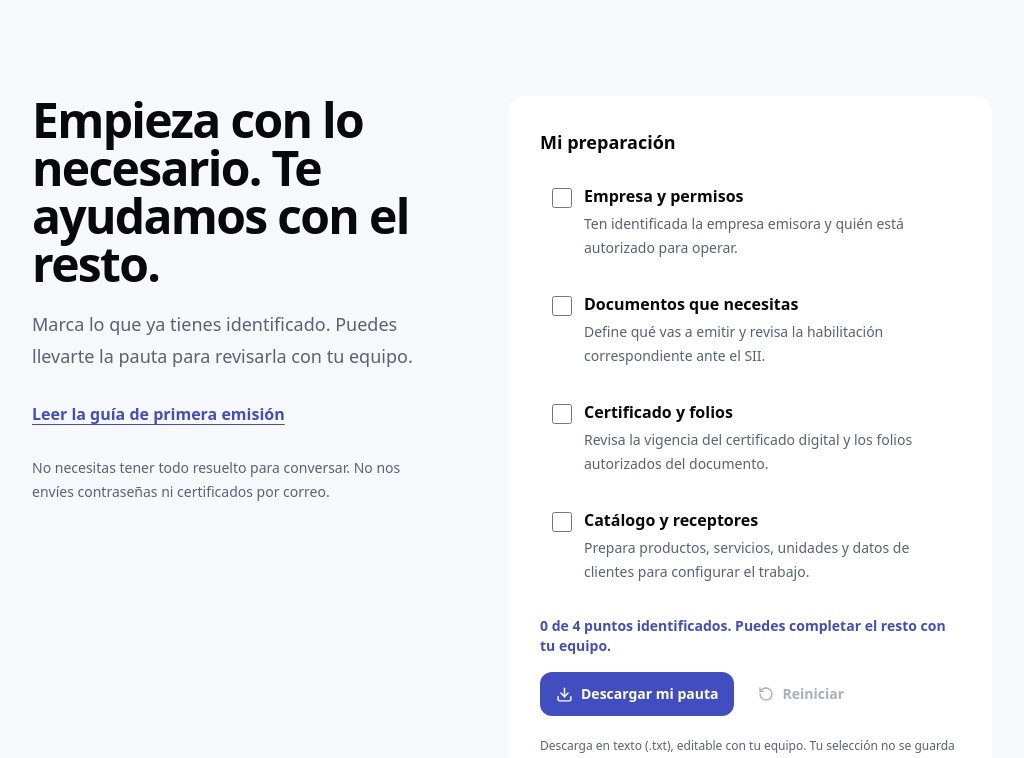
Test case: personal preparation › counts independently, unchecks and resets without submitting anything
Expected: the button "Reiniciar" is disabled, [746,672,856,716]
Step 1. Click the 1st checkbox → (562, 198), box [552,188,572,208]
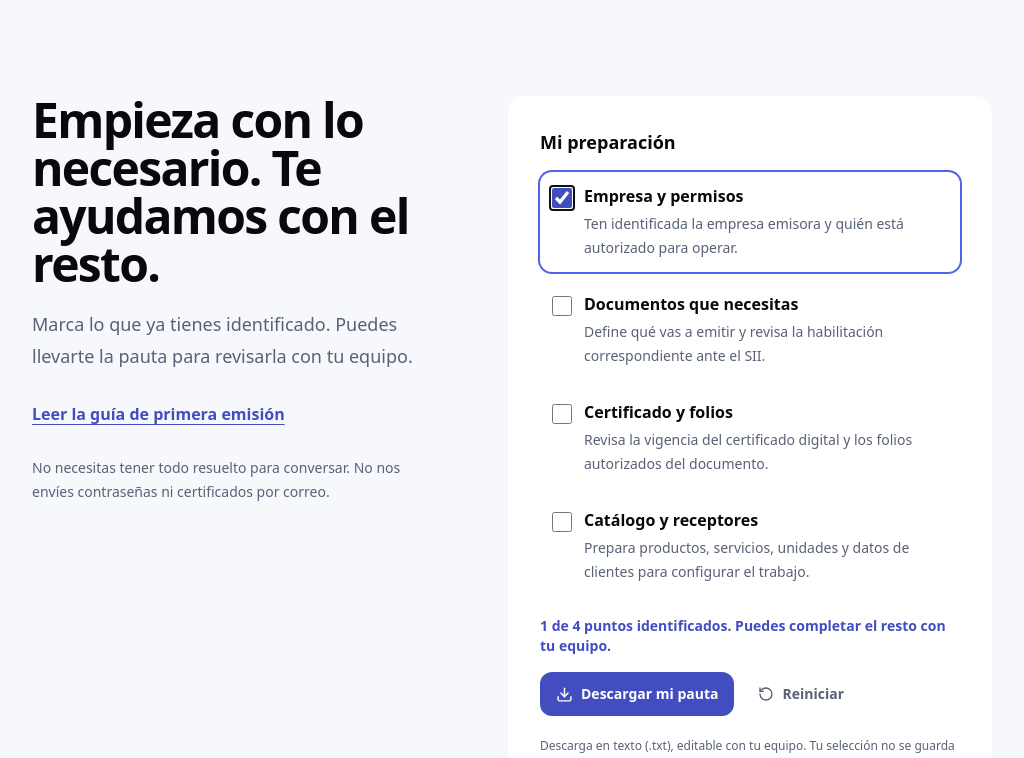
Step 2. Click the 2nd checkbox → (562, 306), box [552,296,572,316]
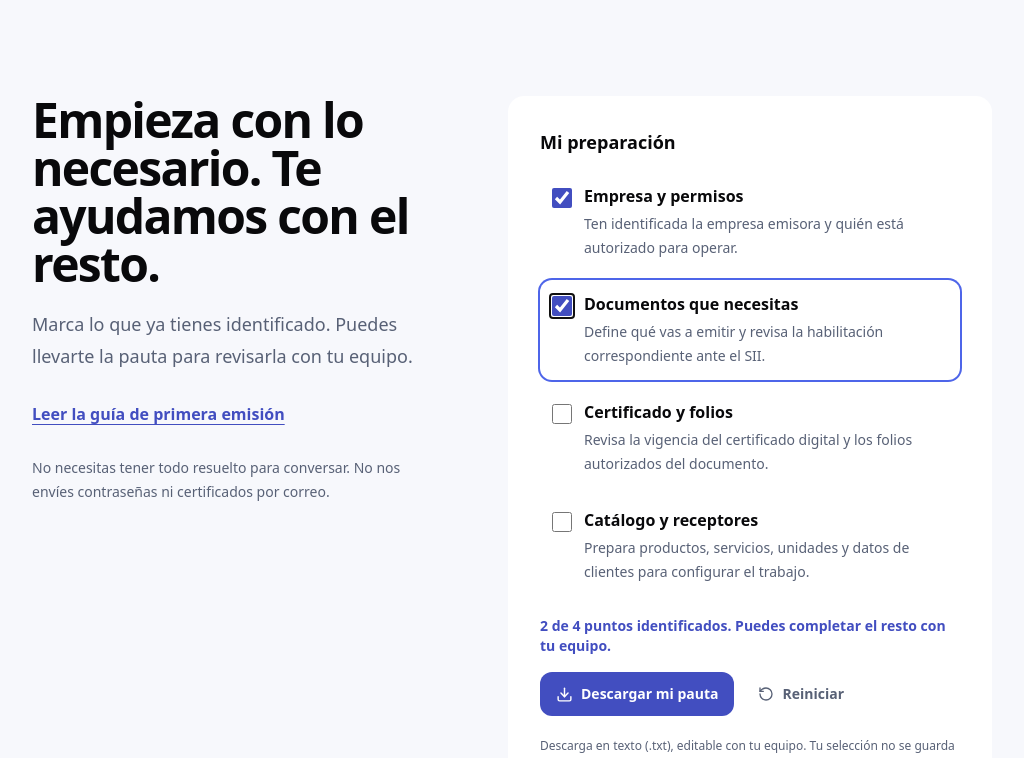
Step 3. Click the 3rd checkbox → (562, 414), box [552,404,572,424]
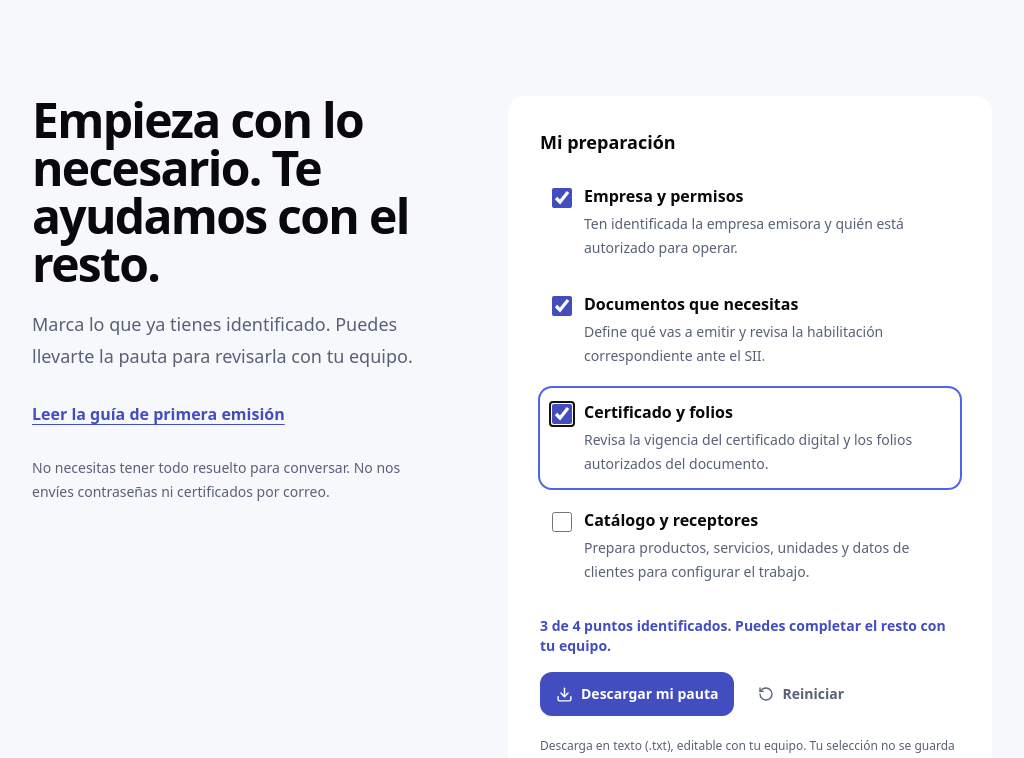
Step 4. Click the 4th checkbox → (562, 522), box [552,512,572,532]
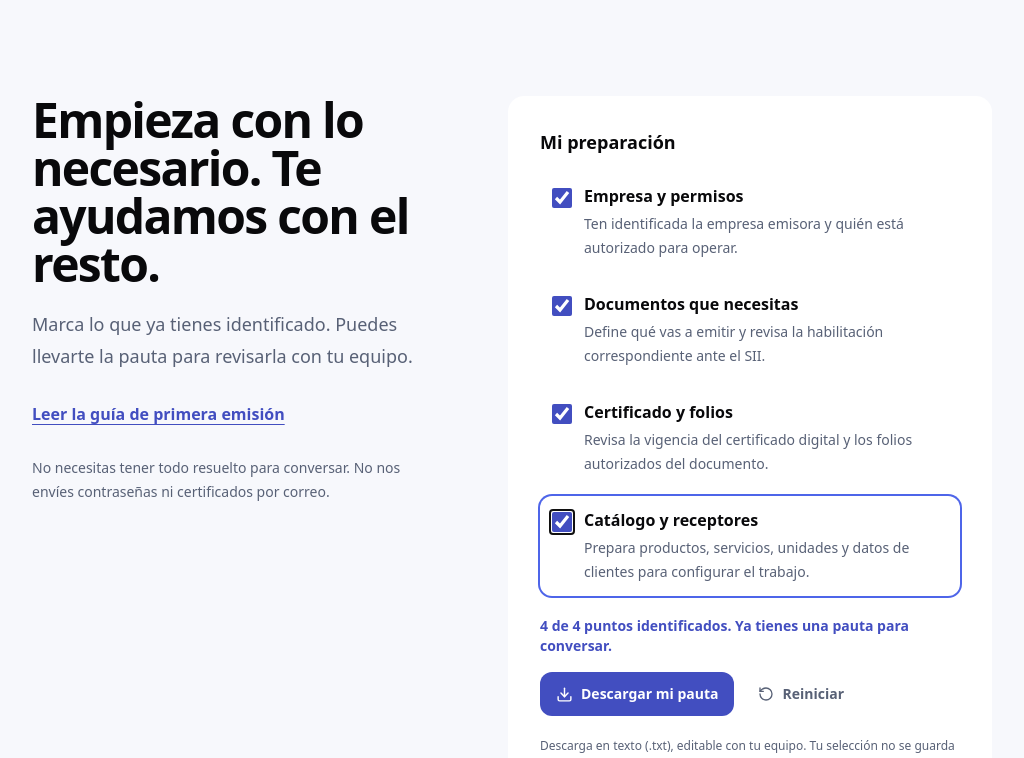
Expected: the message shows "4 de 4 puntos identificados", [540,616,960,656]
Step 5. Click the 1st checkbox → (562, 198), box [552,188,572,208]
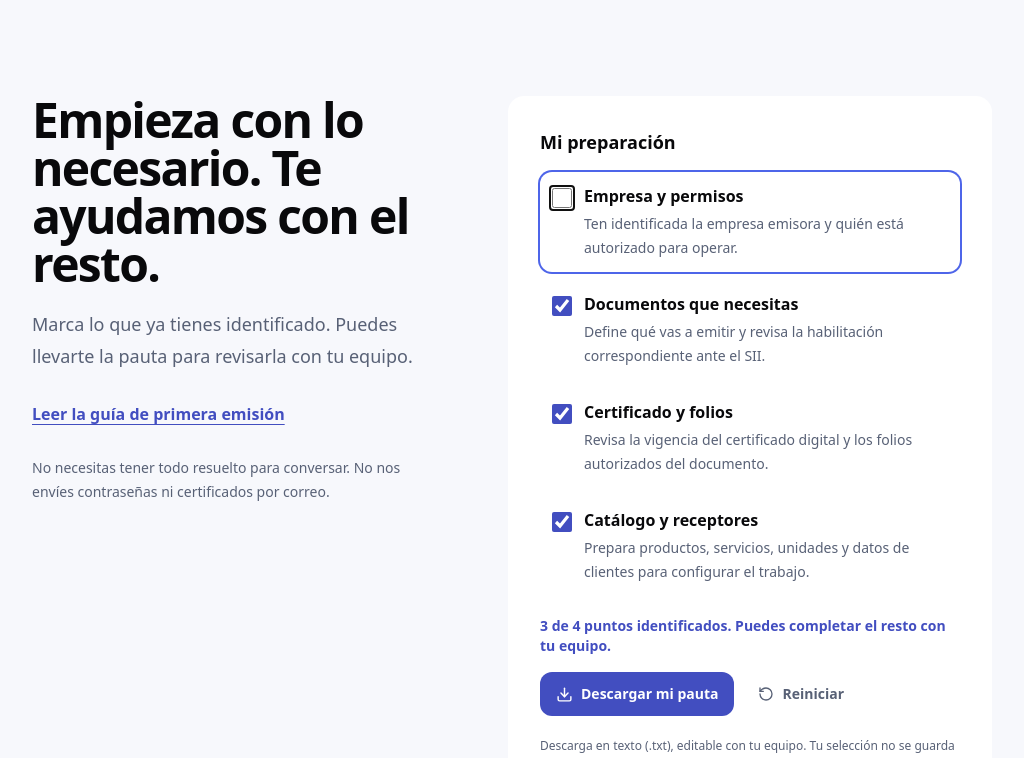
Expected: the message shows "3 de 4", [540,616,960,656]
Step 6. Click the button "Reiniciar" → (801, 694), box [746,672,856,716]
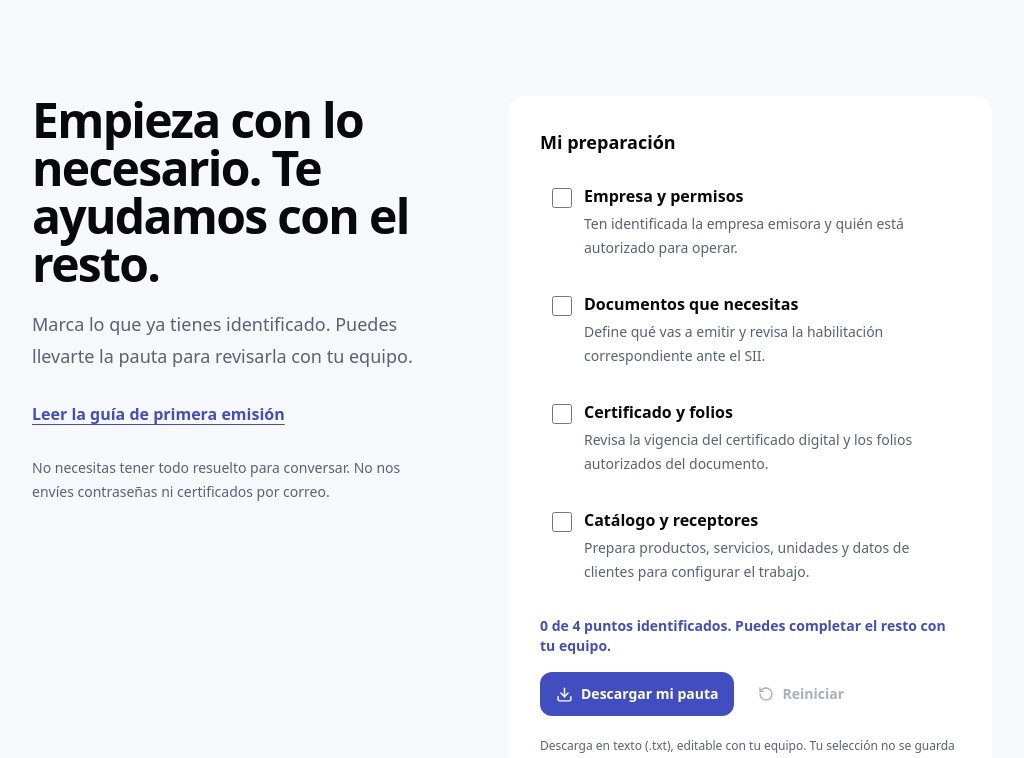
Expected: the message shows "0 de 4", [540,616,960,656]
